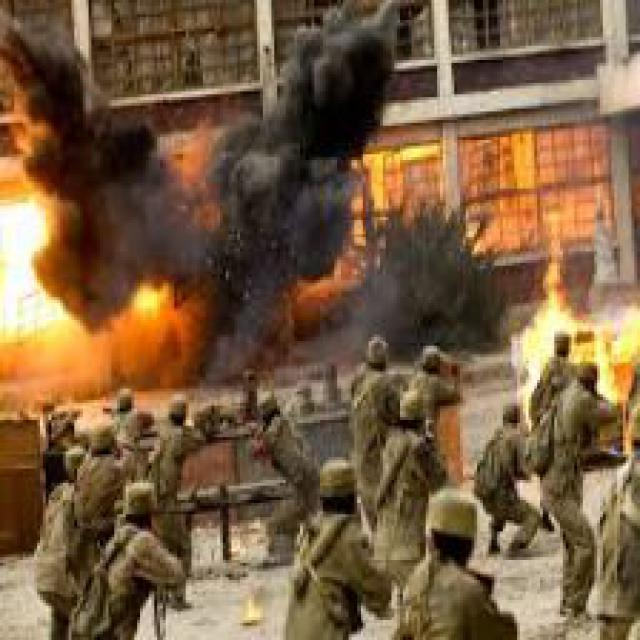fire: (3, 152, 186, 372), (514, 243, 637, 423)
